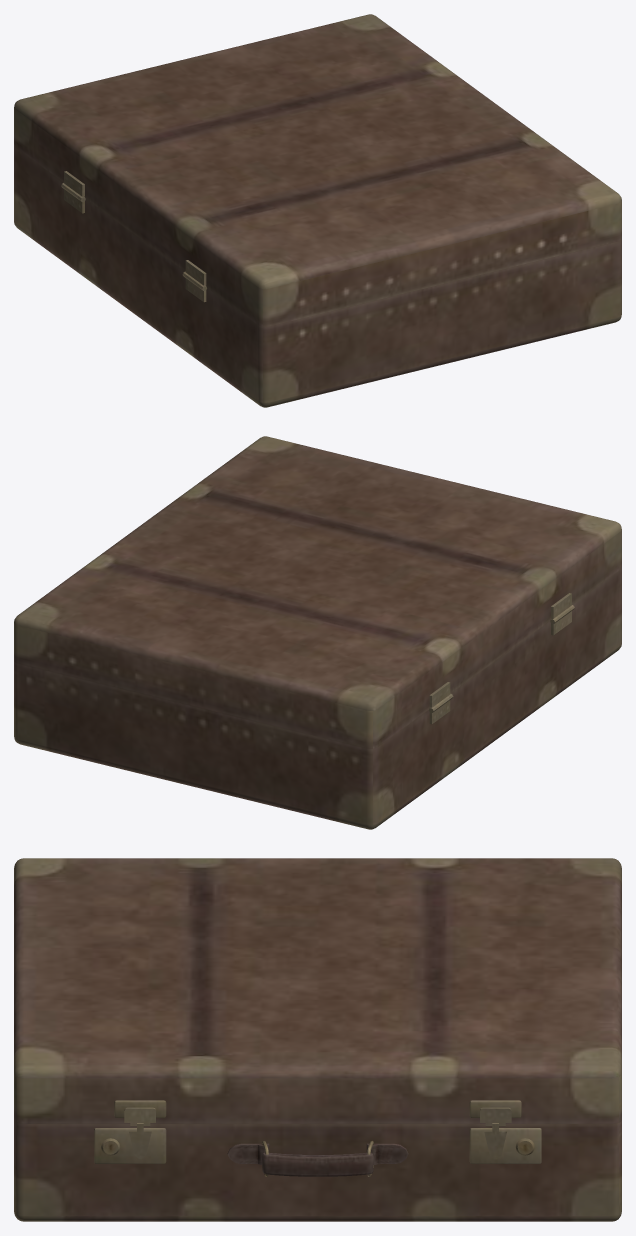
File: briefcase.glb
The picture shows the model from 3 angles, top to bottom: view 1: azimuth 30°, elevation 25°; view 2: azimuth 150°, elevation 25°; view 3: azimuth 270°, elevation 25°; orthographic projection. The views are drawn at different scales.
Visible parts, largest first — view 1: briefcase; view 2: briefcase; view 3: briefcase.
Boxes of the visible parts, x1,y1,x2,y2 form: briefcase: (14,14,621,407); briefcase: (14,436,621,829); briefcase: (14,858,621,1221).
Bounding box in the file's own units: 0.4051 × 0.1275 × 0.45.
1 material, 1 textured.
